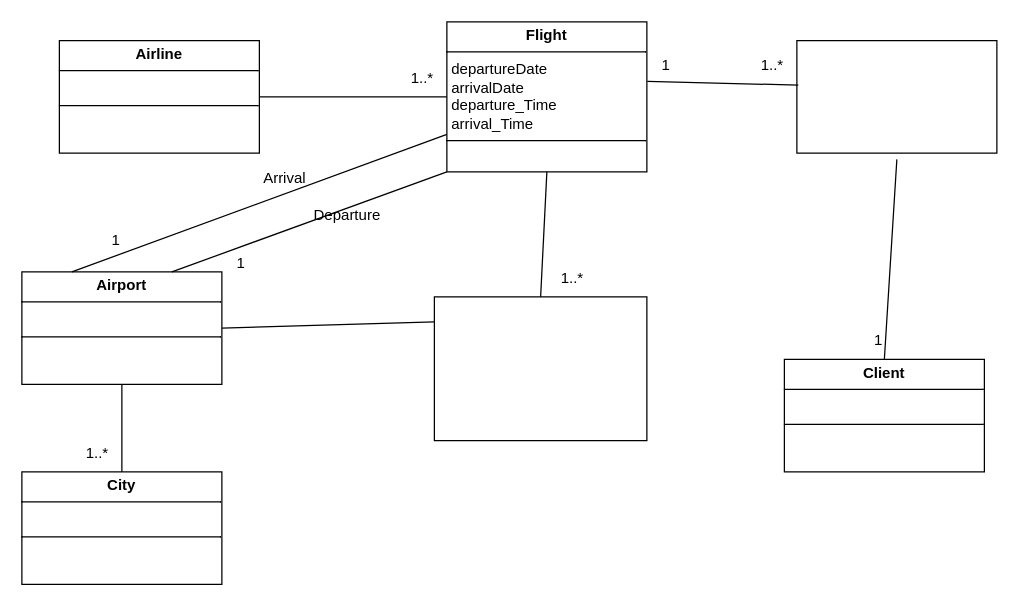
The diagram is 1019 pixels wide and 606 high, and some of its shapes have lost their labels. Here are the shapes that lost their labels. From the top down, the centre of each, then its label:
At pixel 896 96: "Reservation confirmed canceled".
At pixel 540 368: "Stopover + departureTime : int + arrivalTime : int".
